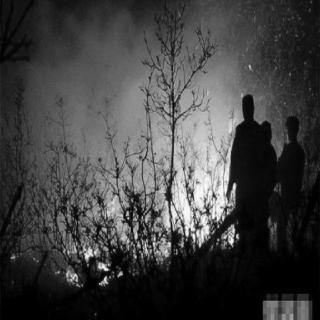Fire: (57, 188, 161, 290)
